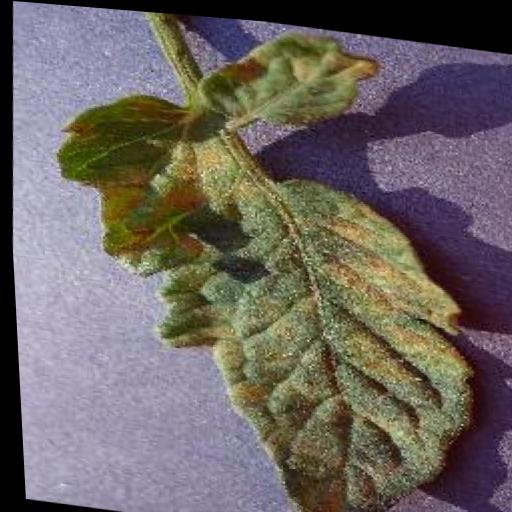Leaf Mold: (37, 2, 497, 512)
